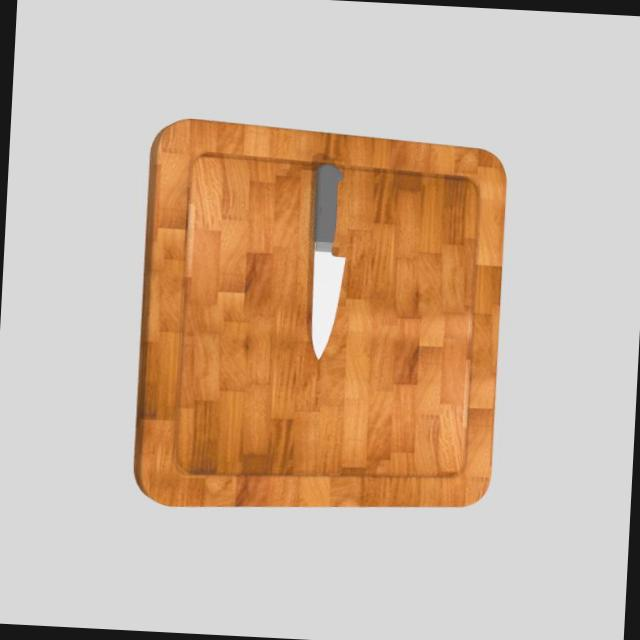knife: (312, 164, 342, 243)
